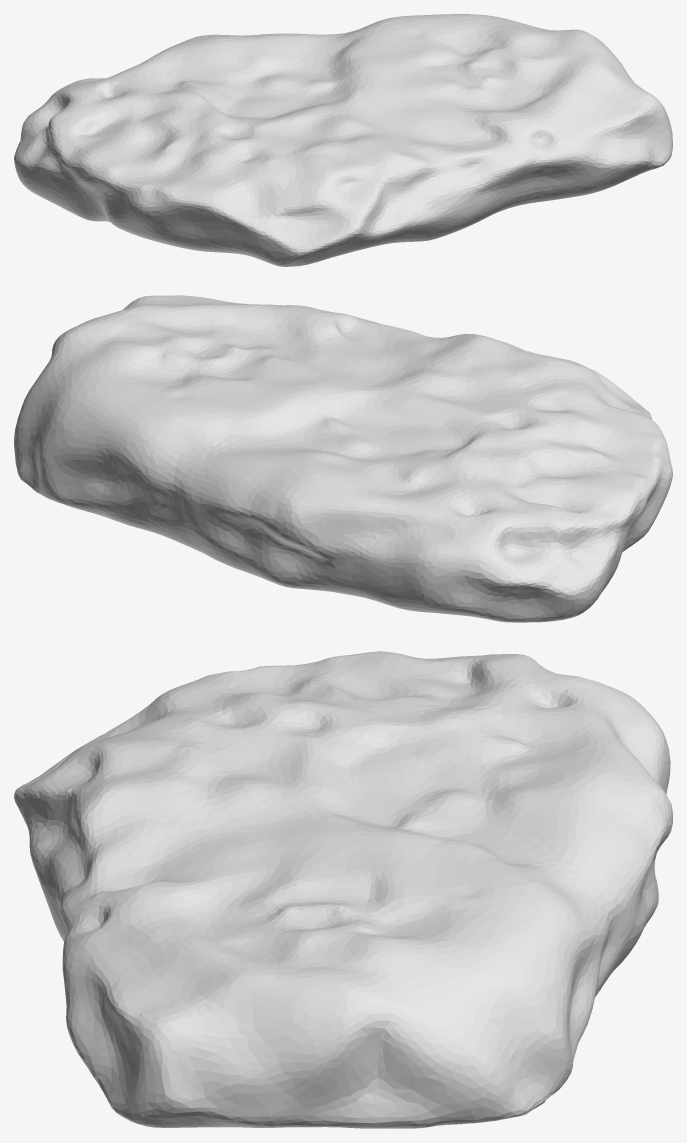
File: flatrock01.glb
3 renders of one model, top to bottom at view 1: azimuth 30°, elevation 25°; view 2: azimuth 150°, elevation 25°; view 3: azimuth 270°, elevation 25°, orthographic. The views are drawn at different scales.
Parts seen in each view (by area): view 1: Low; view 2: Low; view 3: Low.
Boxes of the visible parts, left/top/right/bottom form: Low: left=14, top=14, right=672, bottom=266; Low: left=14, top=295, right=672, bottom=622; Low: left=14, top=651, right=672, bottom=1128.
Bounding box in the file's own units: 1.99 × 0.3467 × 1.39.
Materials: 1 (1 with a texture image).
